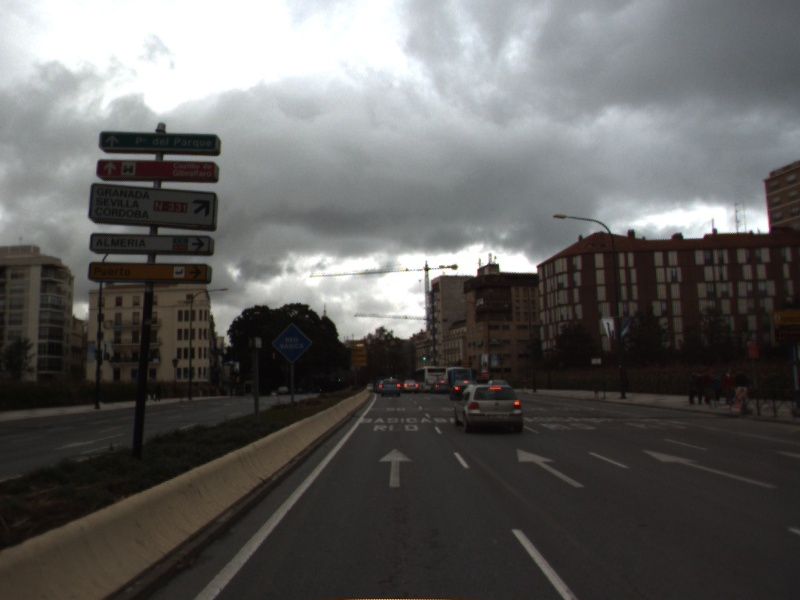STRAIGHT: (640, 447, 781, 491), (514, 447, 588, 490), (376, 446, 416, 489)
